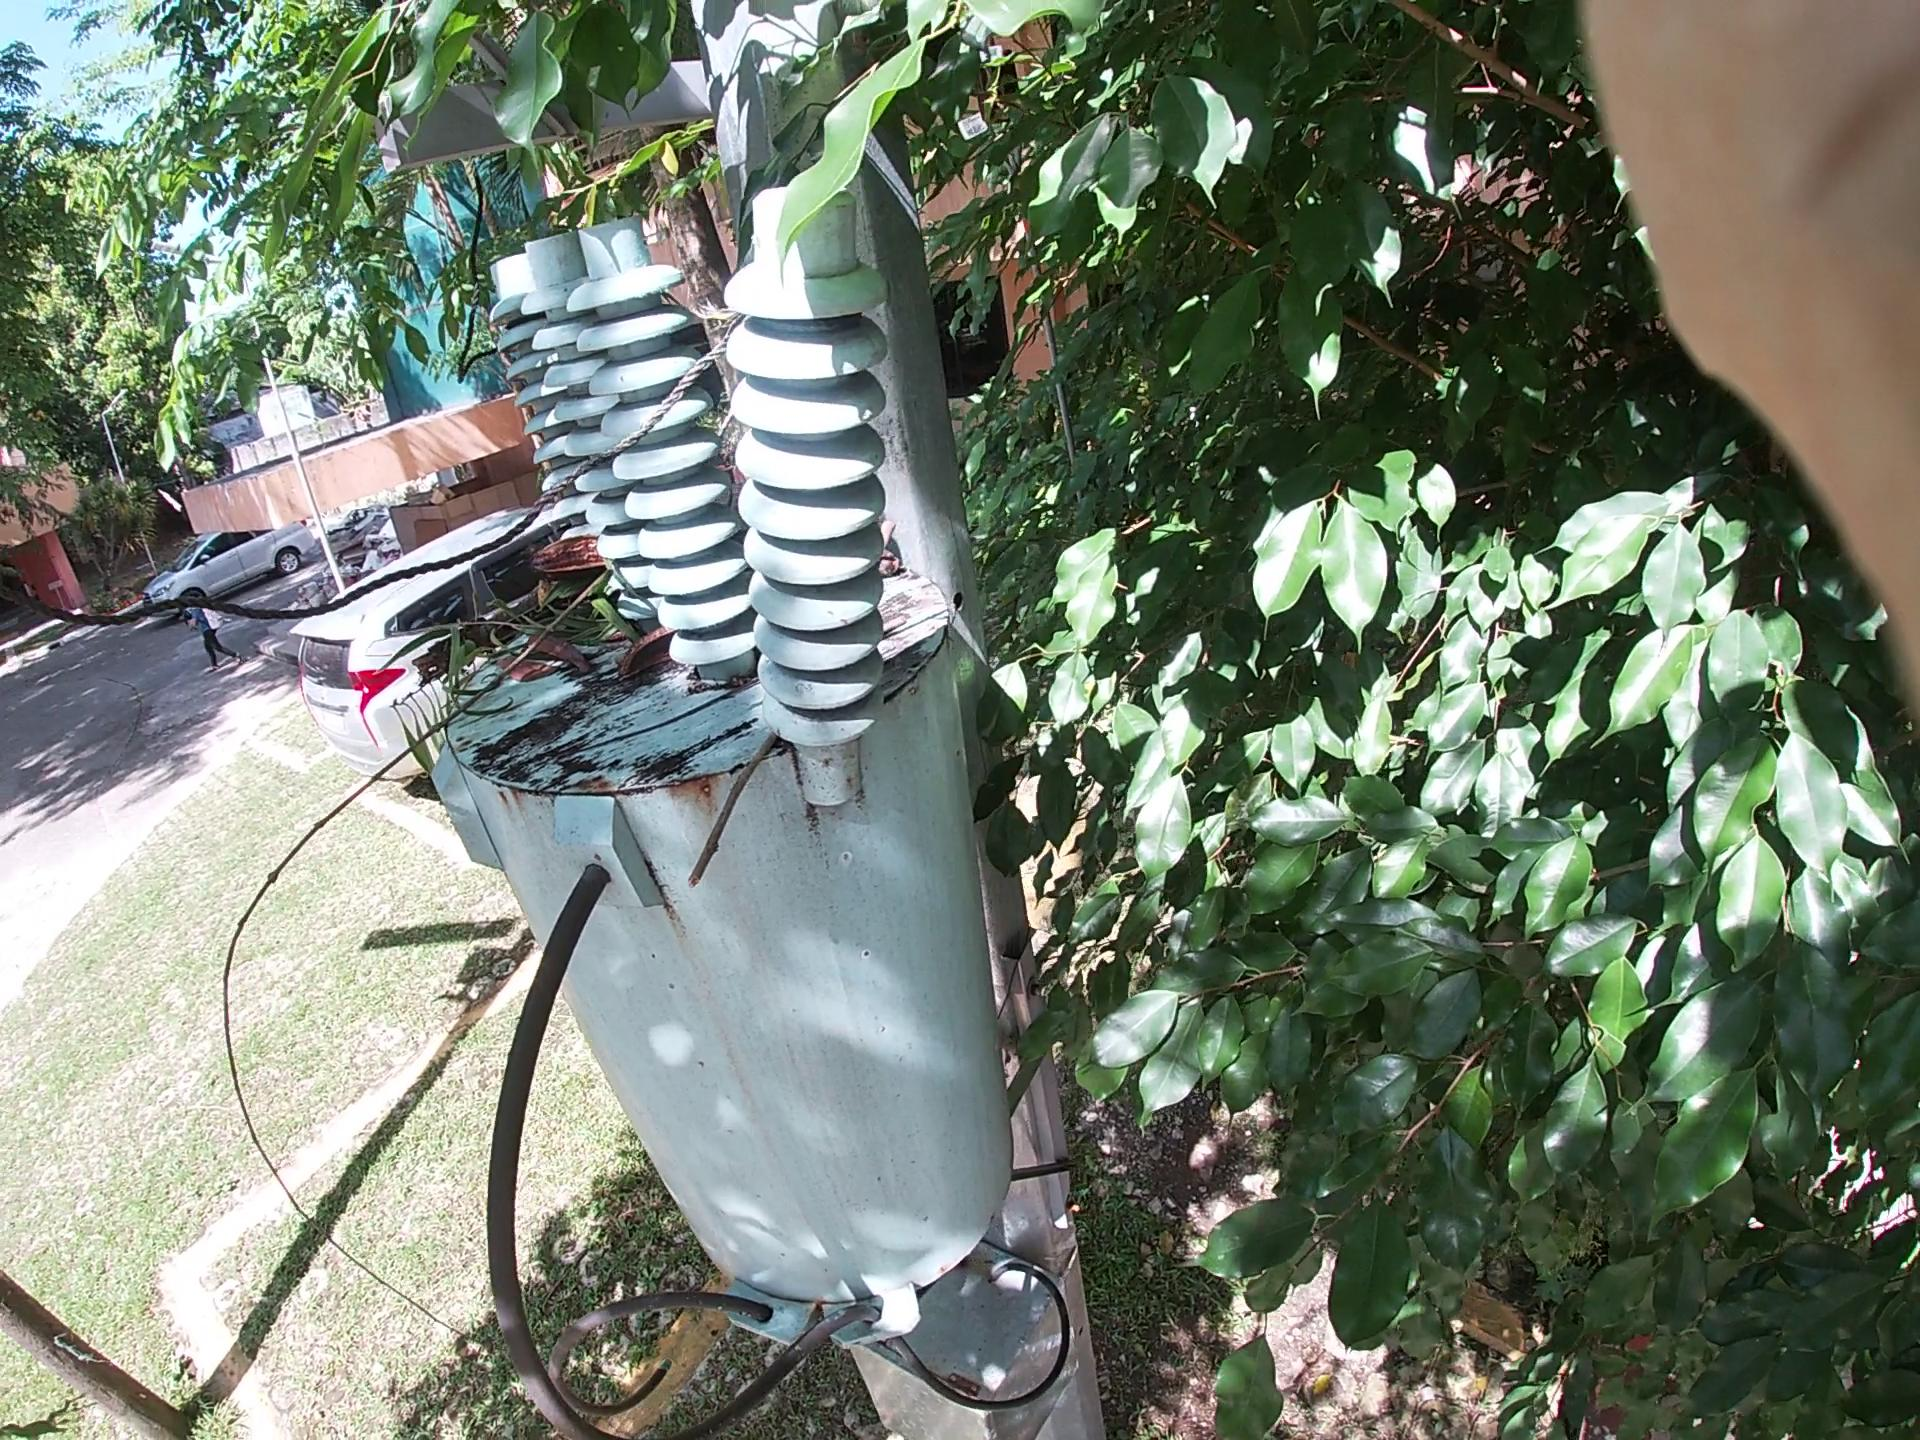branch with leaves: (389, 546, 602, 858)
leaf: (463, 601, 584, 709)
mahogany fruit: (475, 513, 627, 613), (579, 620, 723, 726)
tree branch: (181, 566, 627, 1204), (679, 690, 828, 957)
